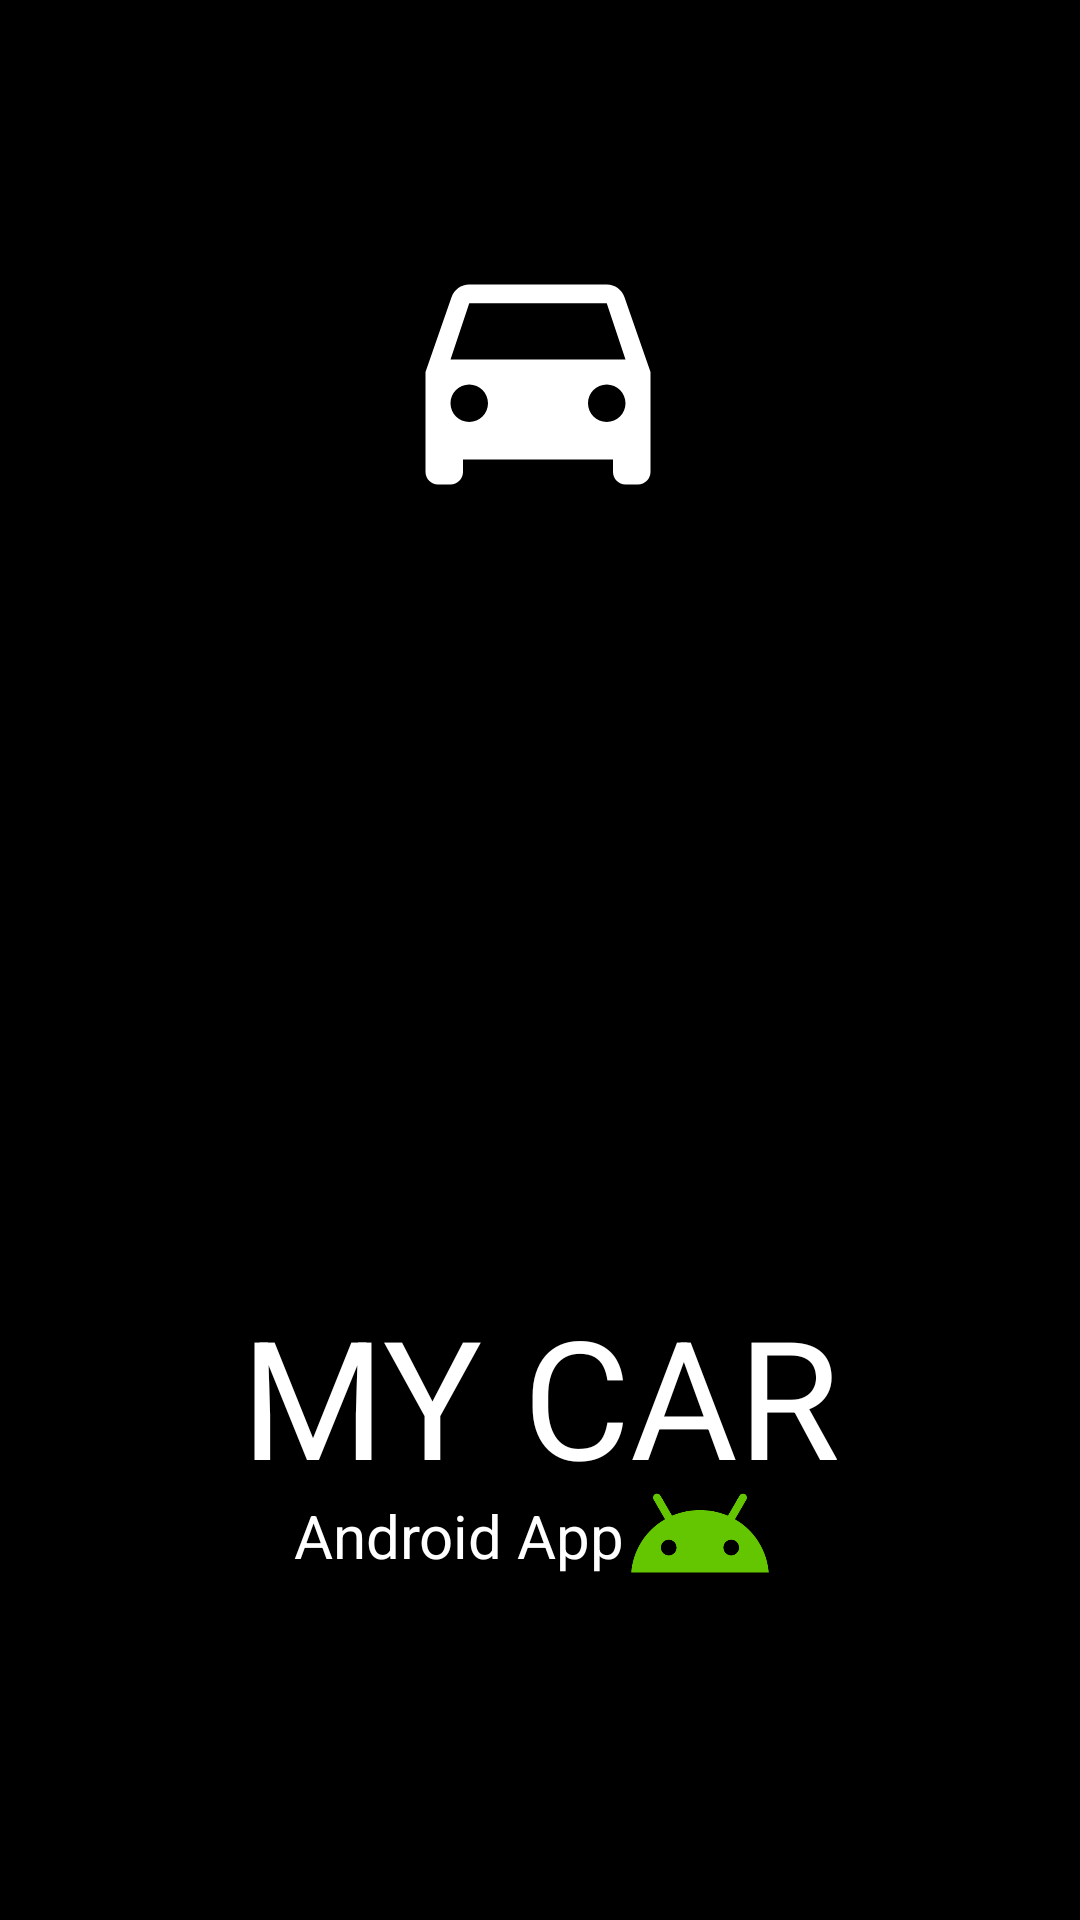

Named icons in this screenshot (1080×1920) and their centers, point (x, y):
directions car: point (538, 384)
